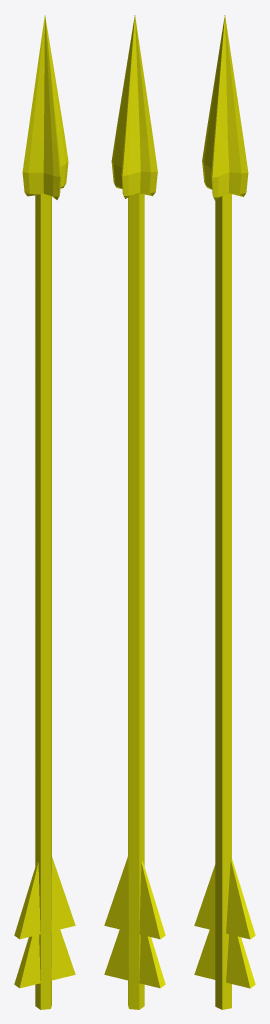
Rendered from _arrow_b_15.glb.
3 views of the same model, side by side, from view 1: azimuth 30°, elevation 25°; view 2: azimuth 150°, elevation 25°; view 3: azimuth 330°, elevation 25° (orthographic).
Parts seen in each view (by area): view 1: arrow_b_15; view 2: arrow_b_15; view 3: arrow_b_15.
Part boxes in pixels (left/top/right/bottom): arrow_b_15: left=14, top=15, right=75, bottom=1009; arrow_b_15: left=104, top=15, right=165, bottom=1009; arrow_b_15: left=194, top=15, right=255, bottom=1009.
Bounding box in the file's own units: 0.0379 × 0.6405 × 0.0311.
1 material, 1 textured.
